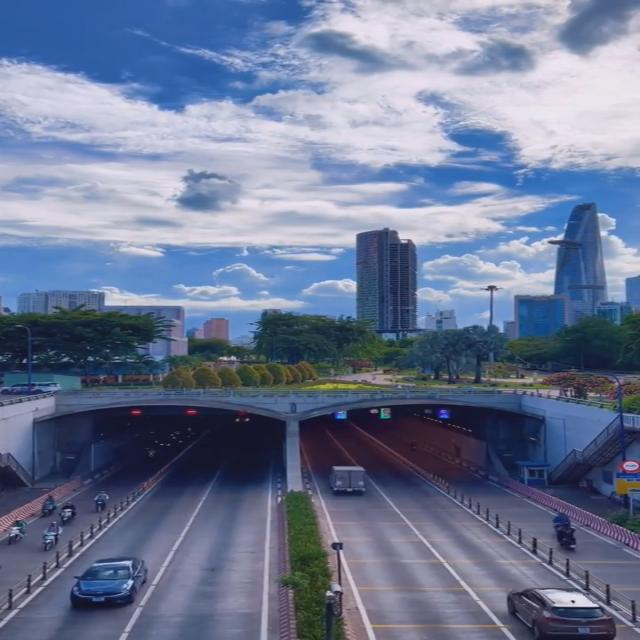car: (509, 587, 620, 640), (69, 556, 146, 610)
motorbike: (41, 522, 62, 551), (558, 524, 580, 550), (7, 519, 28, 545), (40, 495, 58, 520), (61, 499, 77, 524), (92, 491, 110, 513)
truck: (331, 466, 370, 496)
